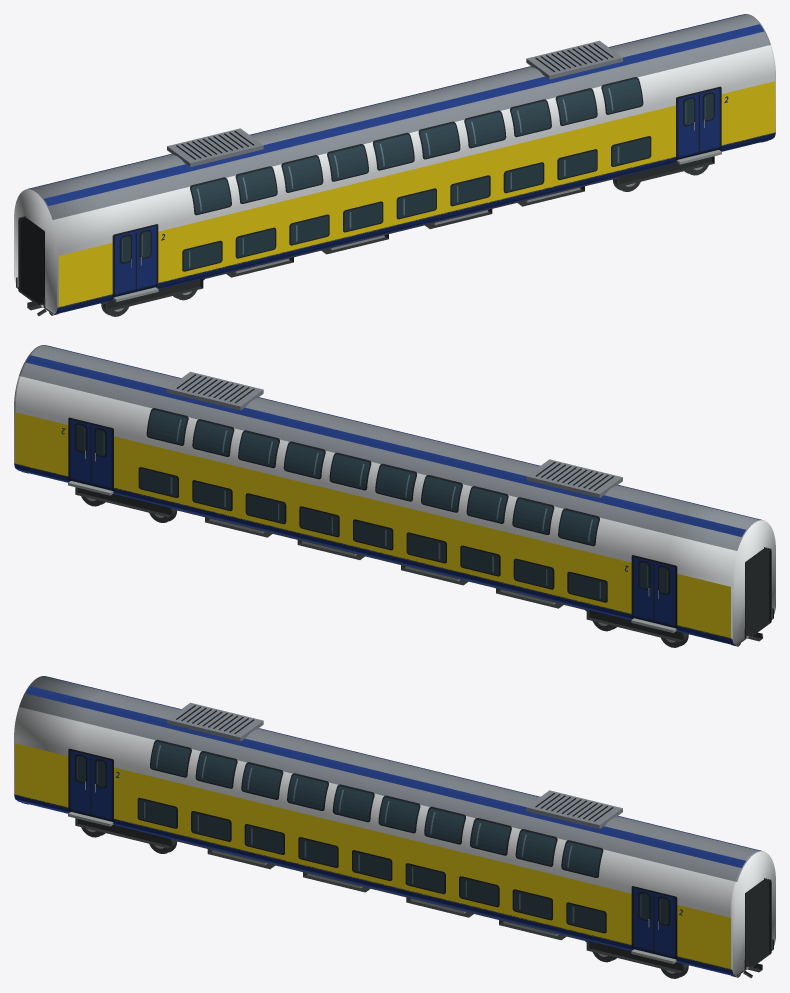
File: metronom-second-class.glb
3 renders of one model, top to bottom at view 1: azimuth 30°, elevation 25°; view 2: azimuth 150°, elevation 25°; view 3: azimuth 330°, elevation 25°, orthographic.
Parts seen in each view (by area): view 1: second_class_continuous_shell, second_class_yellow_curve_-1, second_class_blue_roof_edge_-1, second_class_blue_sill_-1, second_class_door_blue_-1_0, second_class_hvac_0, second_class_hvac_1, second_class_door_blue_-1_1, second_class_bellows_-1_3, second_class_upper_-1_4_pane, second_class_upper_-1_0_pane, second_class_upper_-1_1_pane (+22 smaller); view 2: second_class_continuous_shell, second_class_yellow_curve_1, second_class_blue_roof_edge_1, second_class_blue_sill_1, second_class_door_blue_1_0, second_class_hvac_0, second_class_hvac_1, second_class_door_blue_1_1, second_class_bellows_-1_3, second_class_bogie_0, second_class_bogie_1, second_class_upper_1_4_pane (+22 smaller); view 3: second_class_continuous_shell, second_class_yellow_curve_-1, second_class_blue_roof_edge_-1, second_class_blue_sill_-1, second_class_door_blue_-1_1, second_class_hvac_0, second_class_hvac_1, second_class_door_blue_-1_0, second_class_bellows_1_3, second_class_upper_-1_6_pane, second_class_upper_-1_9_pane, second_class_upper_-1_0_pane (+22 smaller).
Part boxes in pixels (x1=…): second_class_continuous_shell: x1=14, y1=14, x2=775, y2=314; second_class_yellow_curve_-1: x1=59, y1=81, x2=774, y2=307; second_class_blue_roof_edge_-1: x1=44, y1=24, x2=764, y2=205; second_class_blue_sill_-1: x1=58, y1=132, x2=774, y2=311; second_class_door_blue_-1_0: x1=115, y1=226, x2=156, y2=295; second_class_hvac_0: x1=167, y1=128, x2=263, y2=166; second_class_hvac_1: x1=526, y1=40, x2=622, y2=79; second_class_door_blue_-1_1: x1=678, y1=89, x2=719, y2=157; second_class_bellows_-1_3: x1=18, y1=217, x2=39, y2=305; second_class_upper_-1_4_pane: x1=374, y1=134, x2=413, y2=169; second_class_upper_-1_0_pane: x1=191, y1=179, x2=230, y2=213; second_class_upper_-1_1_pane: x1=237, y1=168, x2=276, y2=202; second_class_continuous_shell: x1=14, y1=345, x2=775, y2=645; second_class_yellow_curve_1: x1=15, y1=412, x2=730, y2=638; second_class_blue_roof_edge_1: x1=25, y1=355, x2=745, y2=536; second_class_blue_sill_1: x1=15, y1=463, x2=731, y2=642; second_class_door_blue_1_0: x1=633, y1=557, x2=674, y2=626; second_class_hvac_0: x1=526, y1=459, x2=622, y2=497; second_class_hvac_1: x1=167, y1=371, x2=263, y2=410; second_class_door_blue_1_1: x1=70, y1=420, x2=111, y2=488; second_class_bellows_-1_3: x1=750, y1=548, x2=771, y2=636; second_class_bogie_0: x1=586, y1=609, x2=688, y2=647; second_class_bogie_1: x1=75, y1=487, x2=176, y2=522; second_class_upper_1_4_pane: x1=376, y1=465, x2=415, y2=500; second_class_continuous_shell: x1=14, y1=676, x2=775, y2=976; second_class_yellow_curve_-1: x1=15, y1=743, x2=730, y2=969; second_class_blue_roof_edge_-1: x1=25, y1=686, x2=745, y2=867; second_class_blue_sill_-1: x1=15, y1=794, x2=731, y2=973; second_class_door_blue_-1_1: x1=633, y1=888, x2=674, y2=957; second_class_hvac_0: x1=167, y1=702, x2=263, y2=741; second_class_hvac_1: x1=526, y1=790, x2=622, y2=828; second_class_door_blue_-1_0: x1=70, y1=751, x2=111, y2=819; second_class_bellows_1_3: x1=750, y1=879, x2=771, y2=967; second_class_upper_-1_6_pane: x1=425, y1=808, x2=464, y2=843; second_class_upper_-1_9_pane: x1=562, y1=842, x2=601, y2=876; second_class_upper_-1_0_pane: x1=151, y1=741, x2=190, y2=776.
Bounding box in the file's own units: 27 × 4.78 × 3.08.
